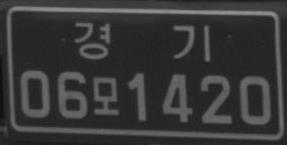0: (239, 74, 272, 126), (19, 69, 51, 119)
1: (125, 71, 153, 122)
2: (199, 73, 233, 125)
4: (161, 73, 193, 122)
6: (56, 70, 88, 120)
경기_D: (72, 20, 212, 64)
모: (91, 75, 120, 116)
